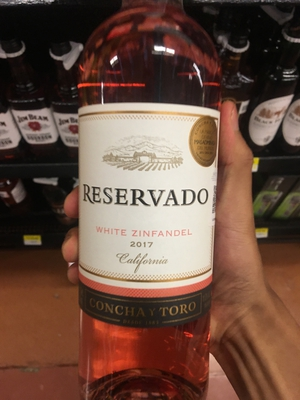reservado white zinfandel: (69, 9, 226, 400)
